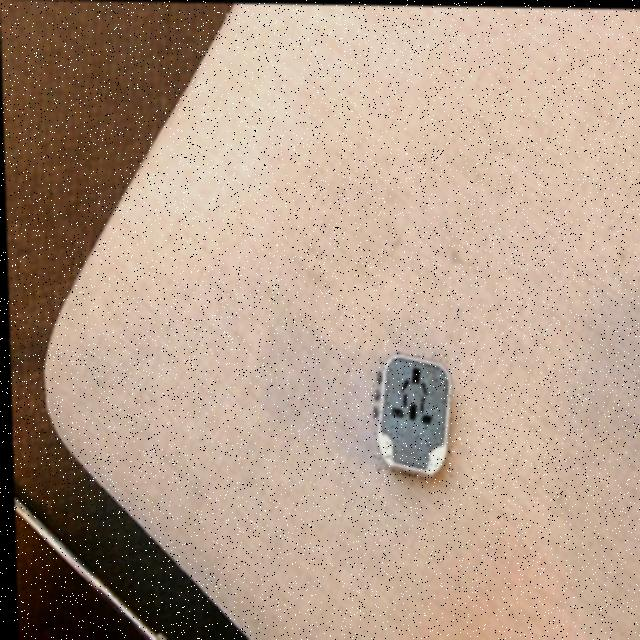adapter: (367, 350, 451, 477)
